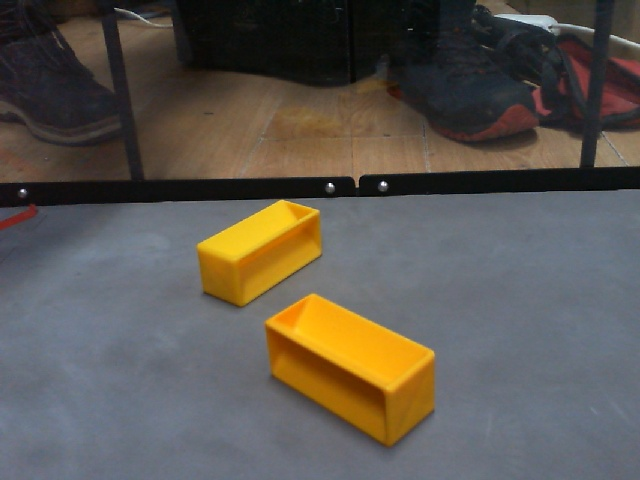YellowSample: (262, 293, 442, 453), (191, 198, 329, 308)
